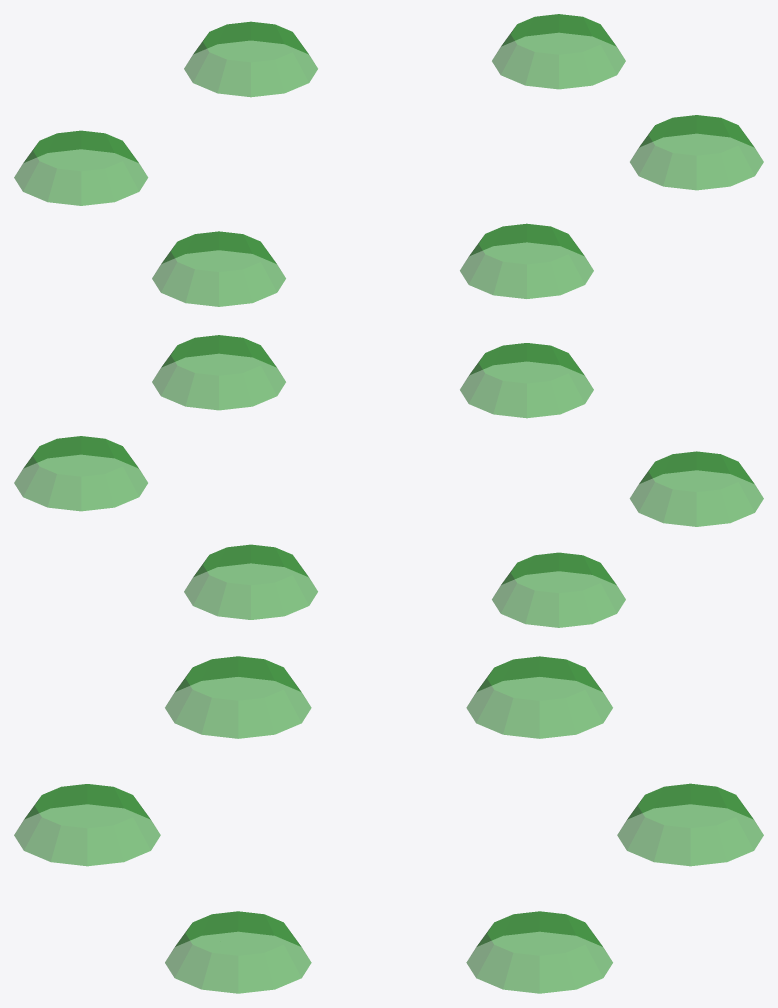
Rendered from warp.obj.
3 renders of one model, top to bottom at view 1: azimuth 30°, elevation 25°; view 2: azimuth 150°, elevation 25°; view 3: azimuth 270°, elevation 25°, orthographic. The views are drawn at different scales.
Bounding box in the file's own units: 19.9 × 0.8596 × 19.9.
